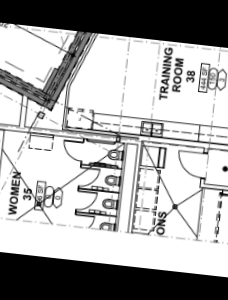door: (174, 147, 209, 180), (61, 137, 85, 163), (73, 189, 98, 213), (76, 166, 101, 190)
wall: (38, 28, 108, 124), (0, 51, 58, 119)
